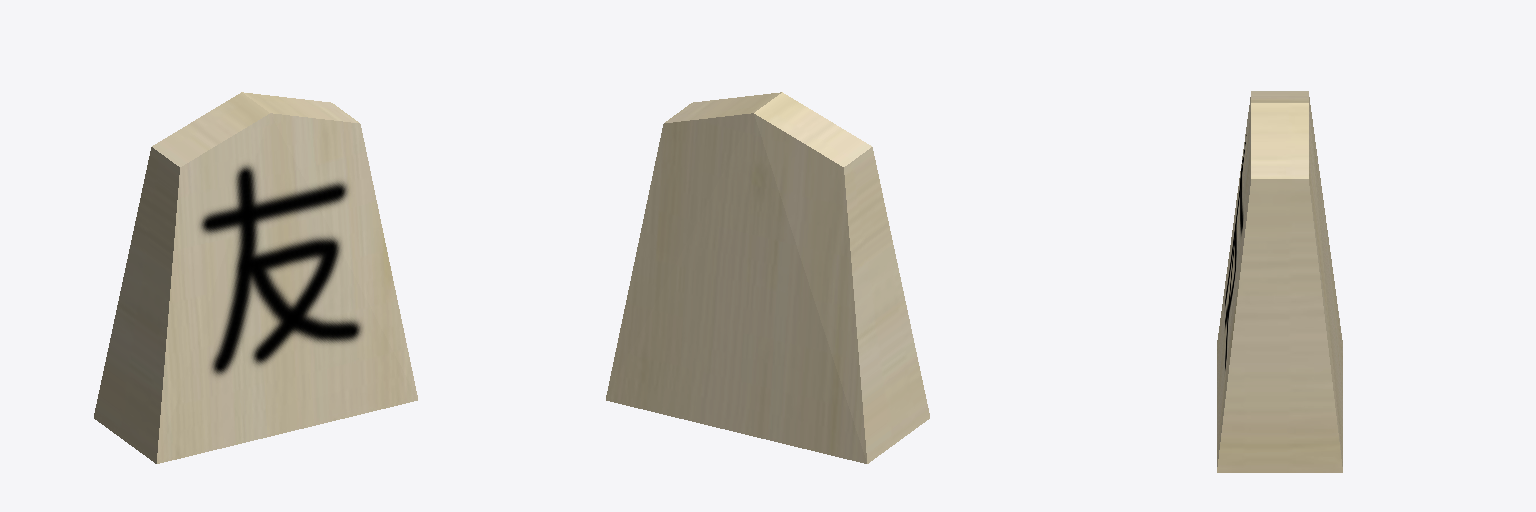
The picture shows the model from 3 angles: view 1: azimuth 30°, elevation 25°; view 2: azimuth 150°, elevation 25°; view 3: azimuth 270°, elevation 25°; orthographic projection.
Parts seen in each view (by area): view 1: Fciha; view 2: Fciha; view 3: Fciha.
Boxes of the visible parts, x1,y1,x2,y2 form: Fciha: [94, 92, 417, 463]; Fciha: [606, 92, 929, 463]; Fciha: [1217, 91, 1342, 472].
Size of the model in its own units: 5.47 by 6.12 by 2.29.
Materials: 1 (1 with a texture image).